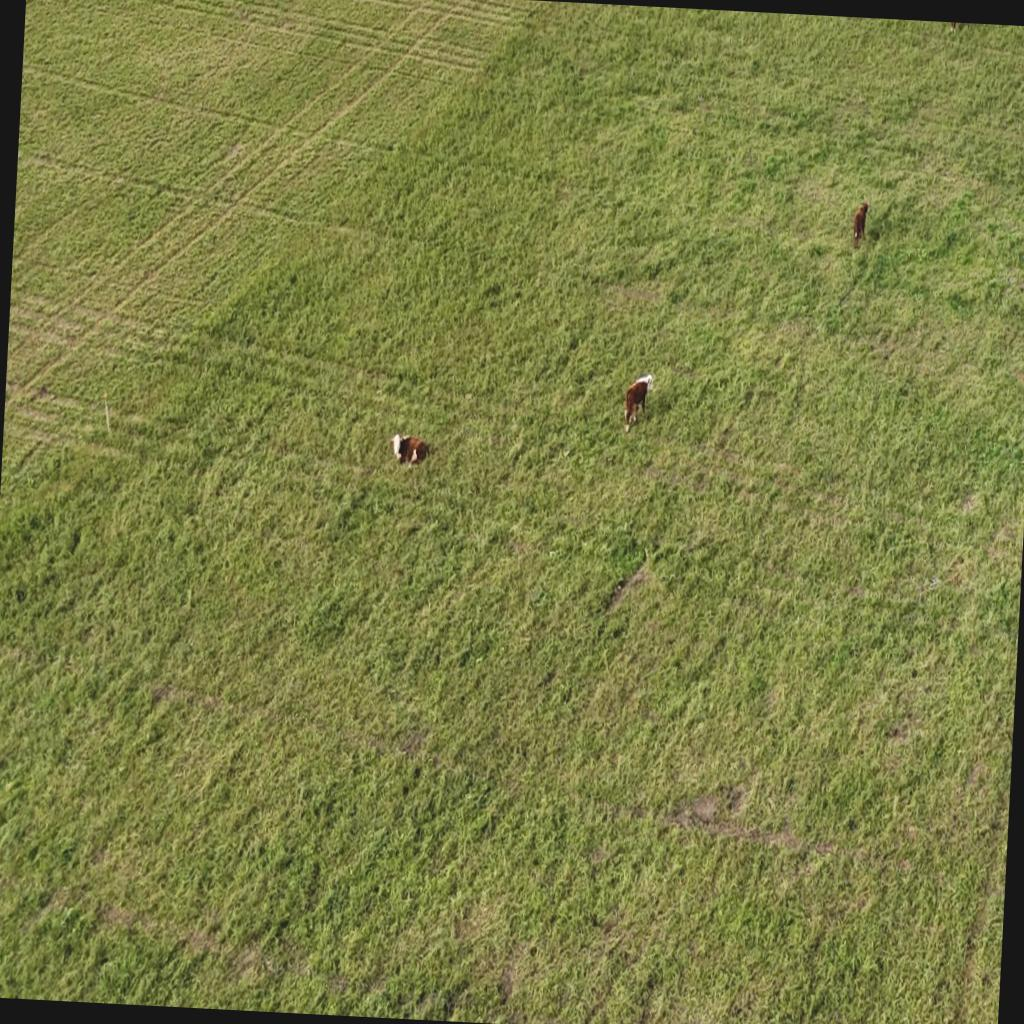cow: (623, 373, 655, 431), (388, 430, 430, 467), (852, 200, 870, 250)
